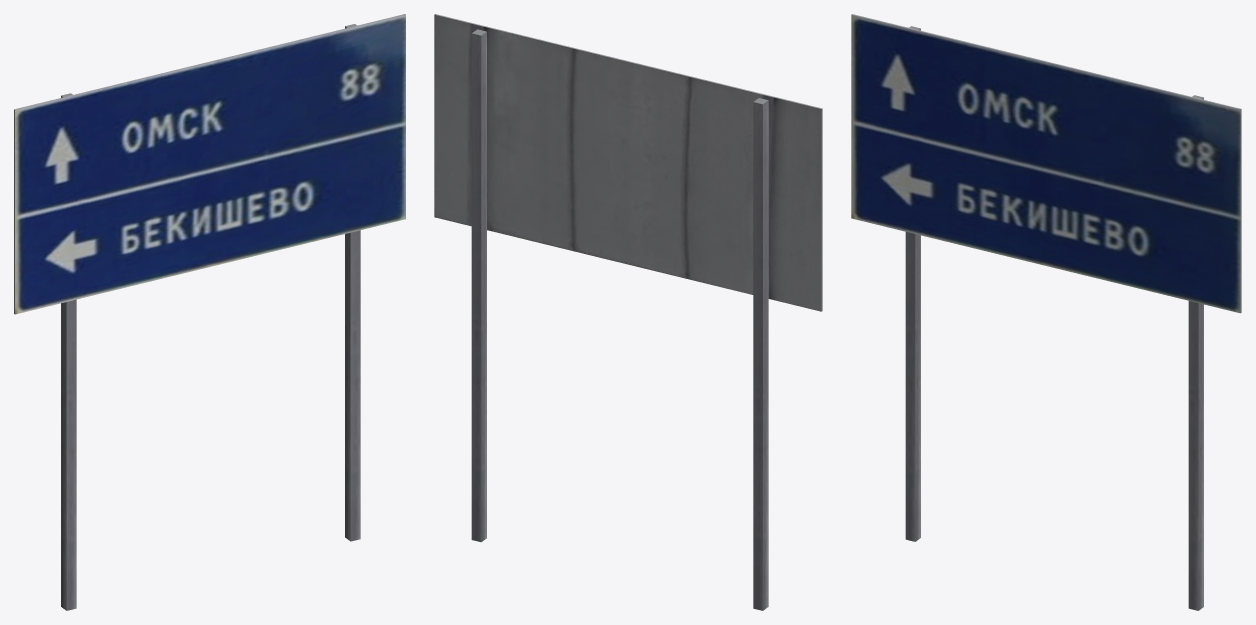
Rendered from r402_znak_2.FBX.
3 renders of one model, left to right at view 1: azimuth 30°, elevation 25°; view 2: azimuth 150°, elevation 25°; view 3: azimuth 330°, elevation 25°, orthographic.
Visible parts, largest first — view 1: r402_znak_2; view 2: r402_znak_2; view 3: r402_znak_2.
Part boxes in pixels (x1,y1,x2,y2): r402_znak_2: (14,14,405,610); r402_znak_2: (434,14,822,610); r402_znak_2: (851,14,1241,610).
Bounding box in the file's own units: 2.4 × 0.0757 × 3.02.
